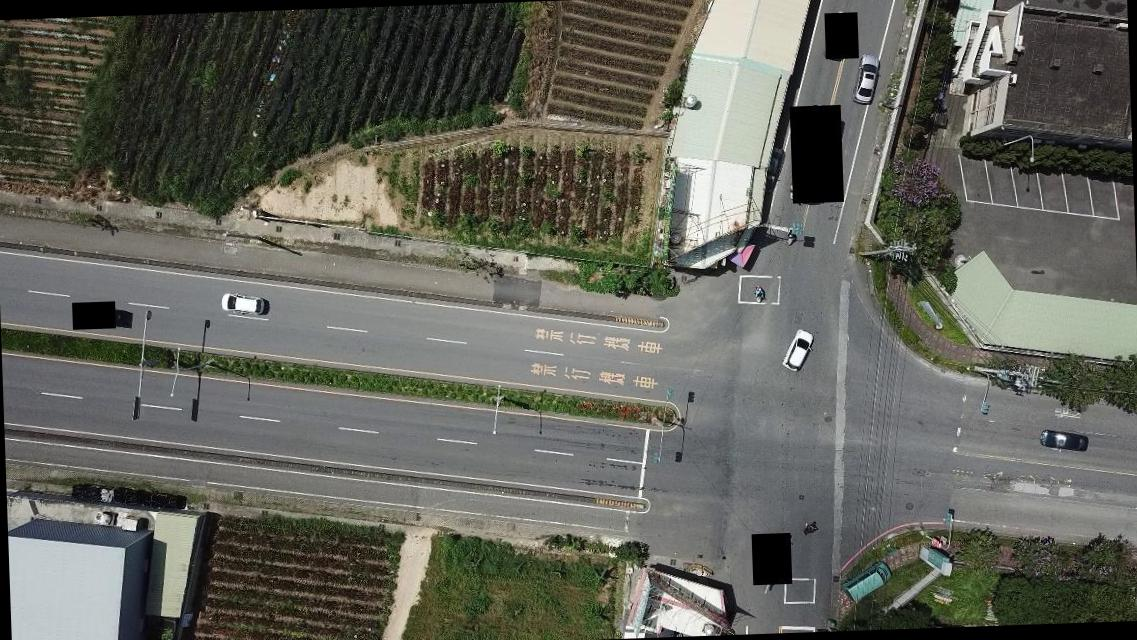vehicle: (841, 561, 892, 601), (849, 52, 883, 107), (780, 329, 816, 372), (1039, 428, 1087, 454), (220, 292, 266, 316)
